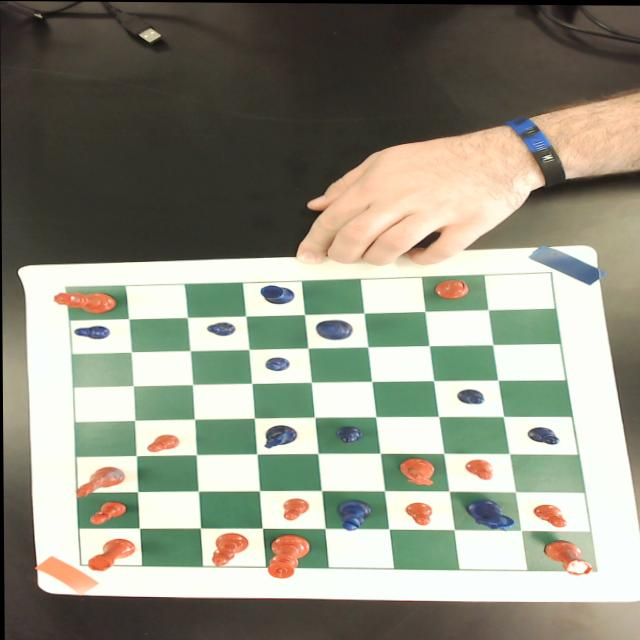B: (335, 499, 375, 530)
K: (313, 318, 353, 339)
N: (463, 498, 516, 530), (261, 424, 299, 448)
P: (525, 425, 561, 443), (72, 324, 110, 339), (334, 425, 363, 443), (456, 387, 485, 403), (205, 320, 235, 334), (264, 356, 289, 370)
R: (259, 283, 297, 304)
b: (209, 532, 249, 566), (433, 276, 473, 300)
k: (267, 533, 312, 577)
n: (75, 465, 125, 498), (398, 458, 439, 484)
p: (89, 500, 127, 525), (531, 502, 567, 526), (403, 500, 433, 525), (279, 496, 309, 520), (145, 433, 180, 452), (464, 458, 494, 478)
q: (52, 291, 117, 312)
r: (540, 538, 594, 574), (86, 536, 136, 571)
